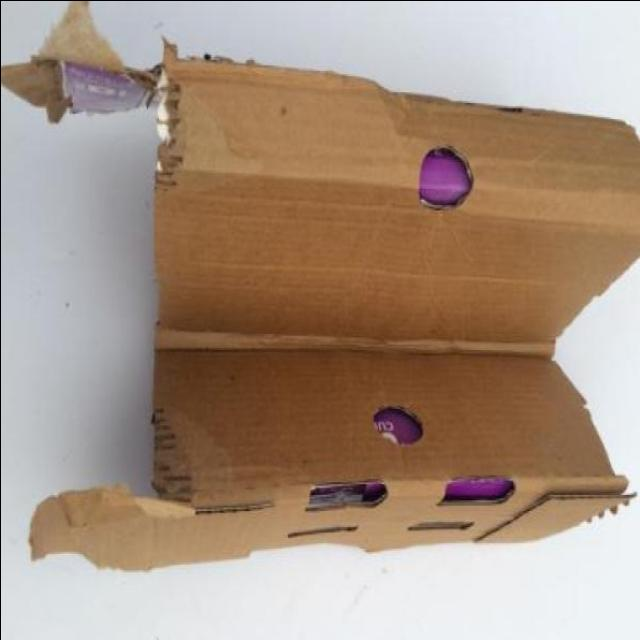cardboard paper: (30, 45, 640, 569), (418, 148, 474, 210)
